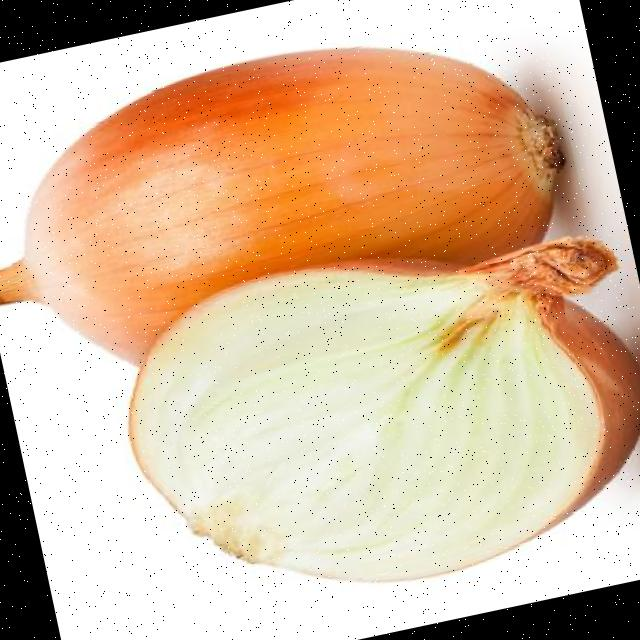Onion: (0, 46, 564, 363)
